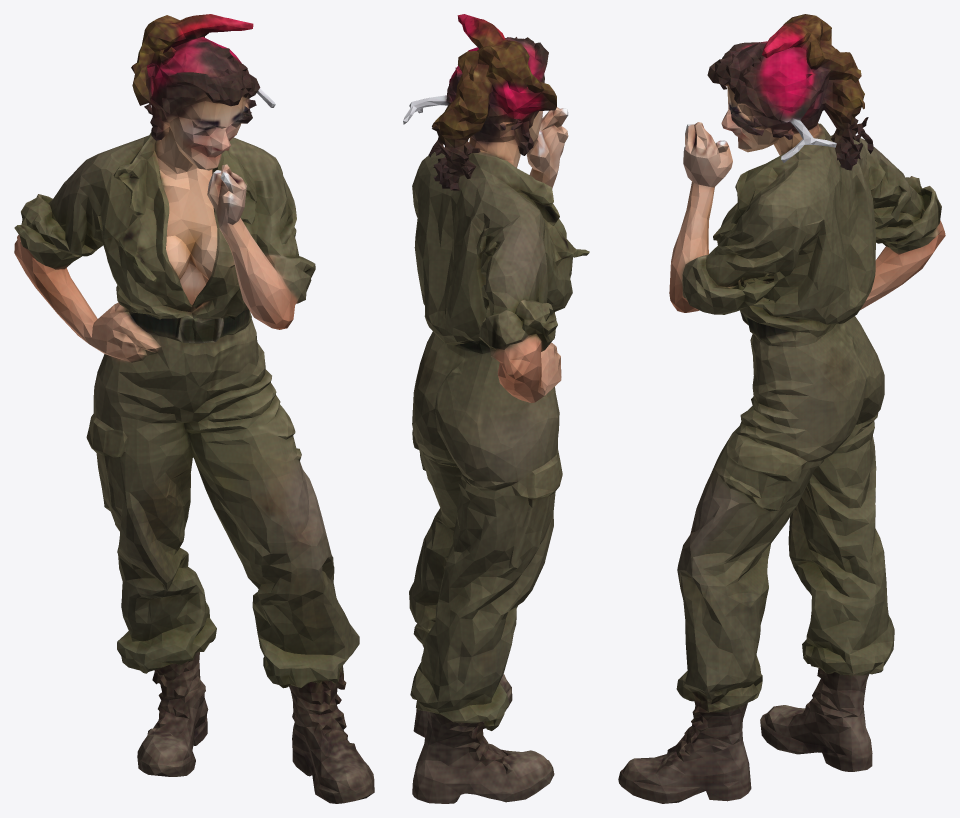
The model's file is crew_us_loader_4_idle.obj.
3 views of the same model, side by side, from view 1: azimuth 30°, elevation 25°; view 2: azimuth 150°, elevation 25°; view 3: azimuth 270°, elevation 25° (orthographic). The views are drawn at different scales.
Parts seen in each view (by area): view 1: crew_us_loader_4_idle; view 2: crew_us_loader_4_idle; view 3: crew_us_loader_4_idle.
Boxes of the visible parts, x1,y1,x2,y2 form: crew_us_loader_4_idle: (14, 14, 374, 803); crew_us_loader_4_idle: (403, 14, 589, 803); crew_us_loader_4_idle: (618, 14, 945, 803).
Bounding box in the file's own units: 0.5826 × 1.72 × 0.6954.
Materials: 1 (1 with a texture image).
